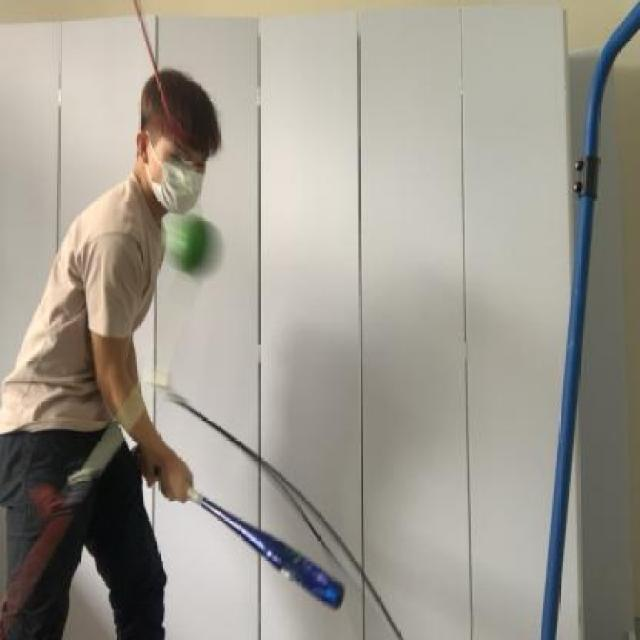baseball: (168, 209, 226, 280)
